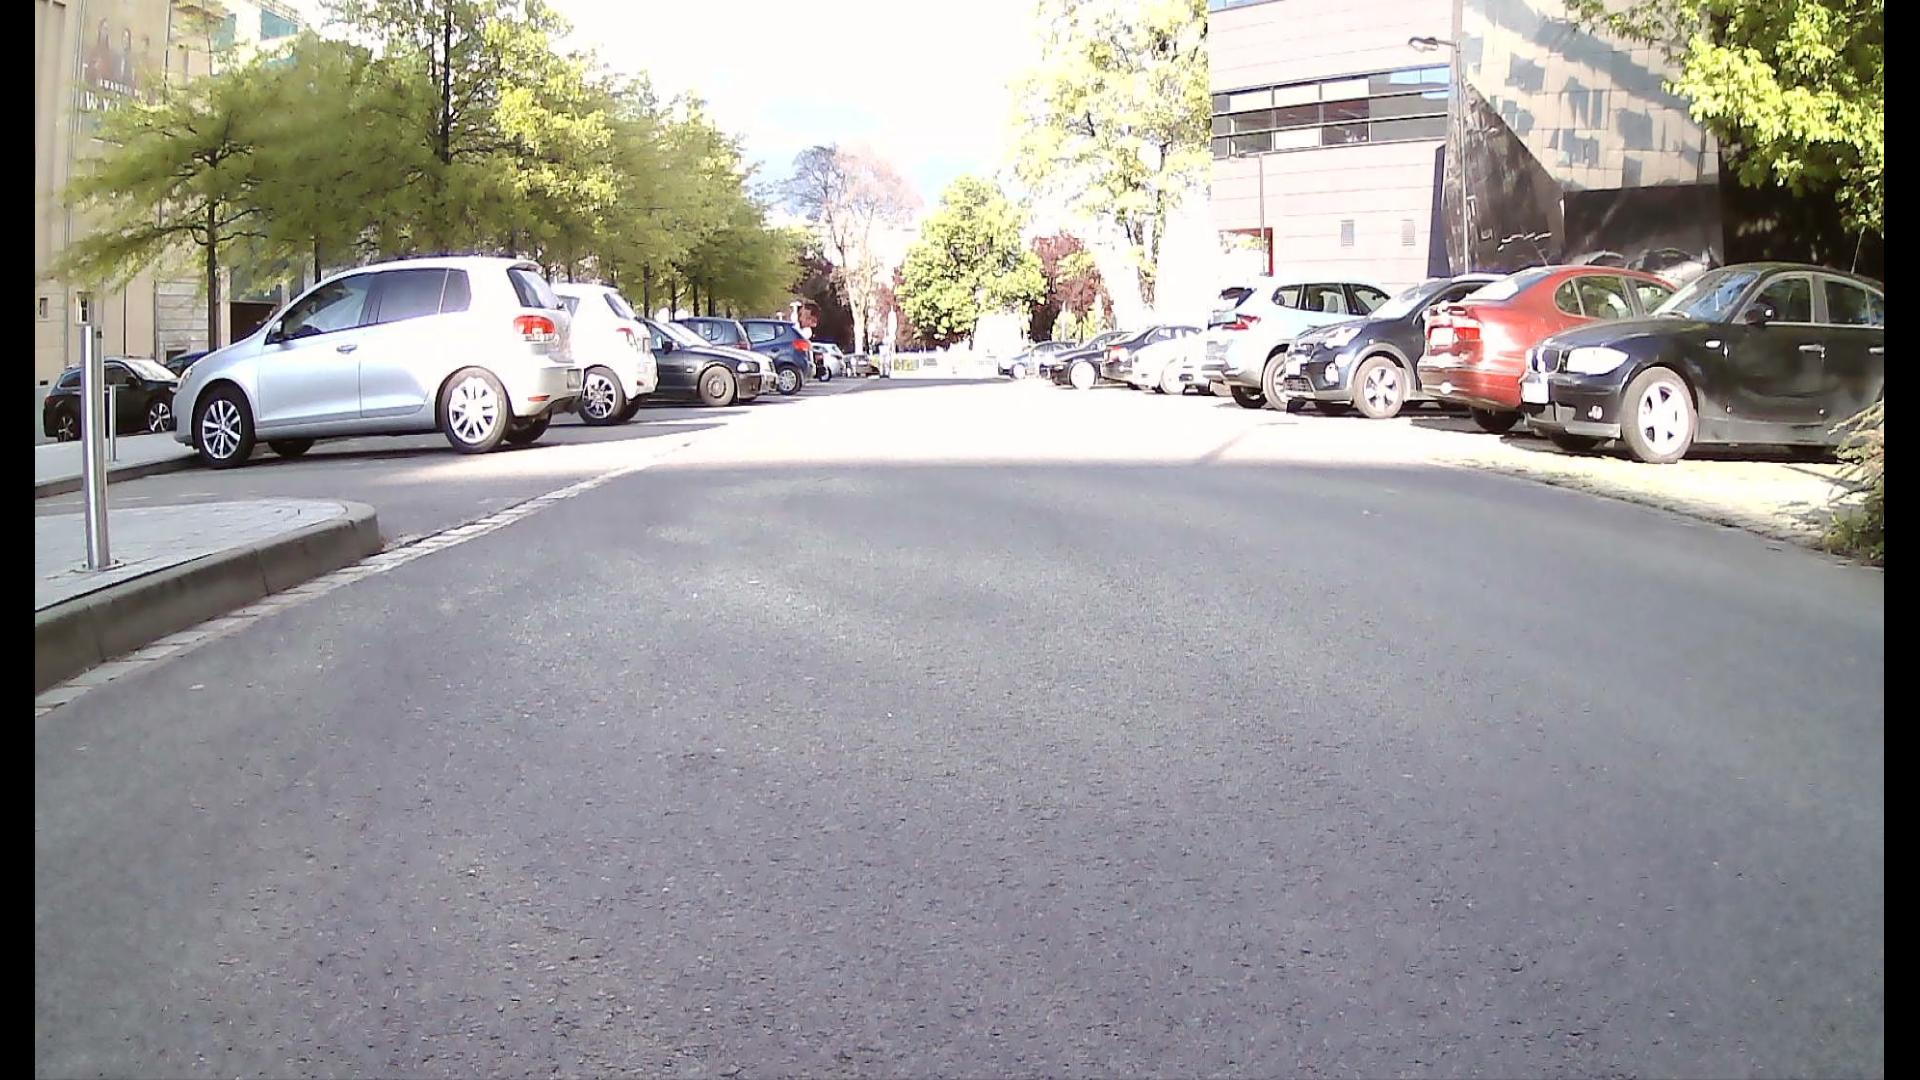car: (164, 228, 585, 483), (1501, 256, 1886, 467), (1402, 261, 1519, 417)
